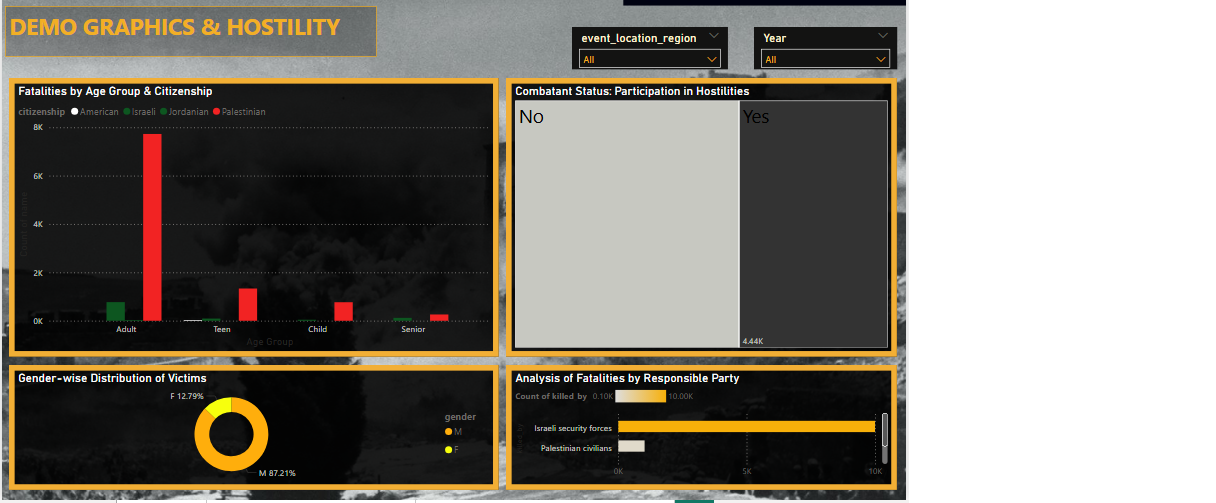

What the dashboard file says about the page in this screenshot:
{"tool":"powerbi","page":{"name":"DEMO GRAPHICS & HOSTILITY","canvas":[1280,720],"ordinal":1},"visuals":[{"type":"clusteredColumnChart","title":"Fatalities by Age Group & Citizenship","fields":{"Category":["cleaned.Age Group"],"Y":["CountNonNull(cleaned.name)"],"Series":["cleaned.citizenship"]},"box":[9.9,121.9,694.5,395.4],"z":0},{"type":"donutChart","title":"Gender-wise Distribution of Victims","fields":{"Category":["cleaned.gender"],"Y":["CountNonNull(cleaned.name)"]},"box":[9.9,528.7,694.5,177.2],"z":1000},{"type":"barChart","title":"Analysis of Fatalities by Responsible Party","fields":{"Category":["cleaned.killed_by"],"Y":["CountNonNull(cleaned.name)"]},"box":[714.3,528.7,554.2,177.2],"z":2000},{"type":"slicer","fields":{"Values":["cleaned.date_of_event.Variation.Date Hierarchy.Year"]},"box":[1065.8,49.6,202.7,59.5],"z":3000},{"type":"slicer","fields":{"Values":["cleaned.event_location_region"]},"box":[807.9,49.6,221.1,59.5],"z":4000},{"type":"treemap","title":"Combatant Status: Participation in Hostilities","fields":{"Group":["cleaned.took_part_in_the_hostilities"],"Values":["CountNonNull(cleaned.name)"]},"box":[714.3,121.9,554.2,395.4],"z":5000},{"type":"textbox","box":[4.3,19.8,527.2,72.3],"z":6000}]}

Visuals, with their boxes in screenshot pixels (x1, y1, x2, y2):
"Fatalities by Age Group & Citizenship" clusteredColumnChart: (7, 81, 504, 364)
"Gender-wise Distribution of Victims" donutChart: (7, 372, 504, 498)
"Analysis of Fatalities by Responsible Party" barChart: (511, 372, 907, 498)
slicer - cleaned.date_of_event.Variation.Date Hierarchy.Year: (762, 29, 907, 72)
slicer - cleaned.event_location_region: (578, 29, 736, 72)
"Combatant Status: Participation in Hostilities" treemap: (511, 81, 907, 364)
textbox: (3, 8, 380, 60)
